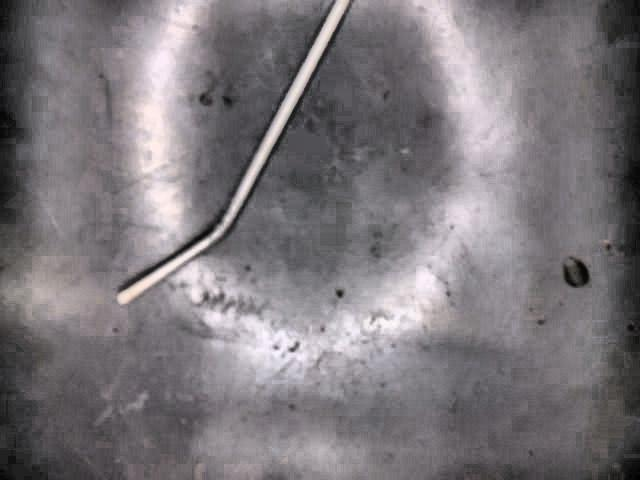Plastic: (116, 0, 354, 305)
